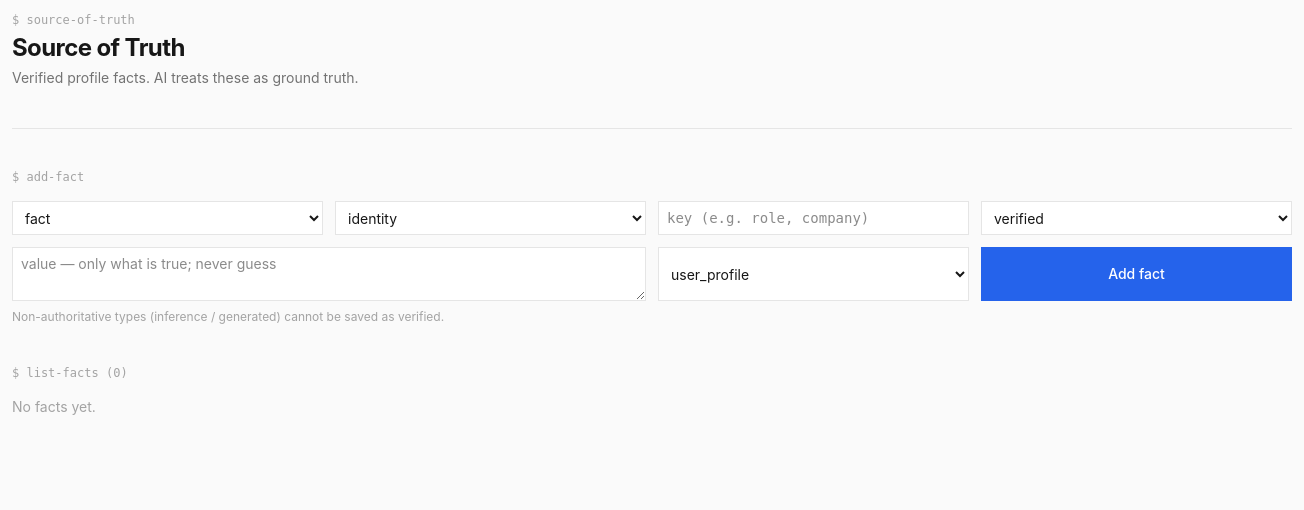
Test: ProfileFactsPage › shows validation errors returned by the API without clearing the form state
Expected: the text "$ add-fact" is shown, [12, 170, 84, 184]
Click the button "Add fact". click: click(1136, 274)
box: [981, 247, 1292, 301]
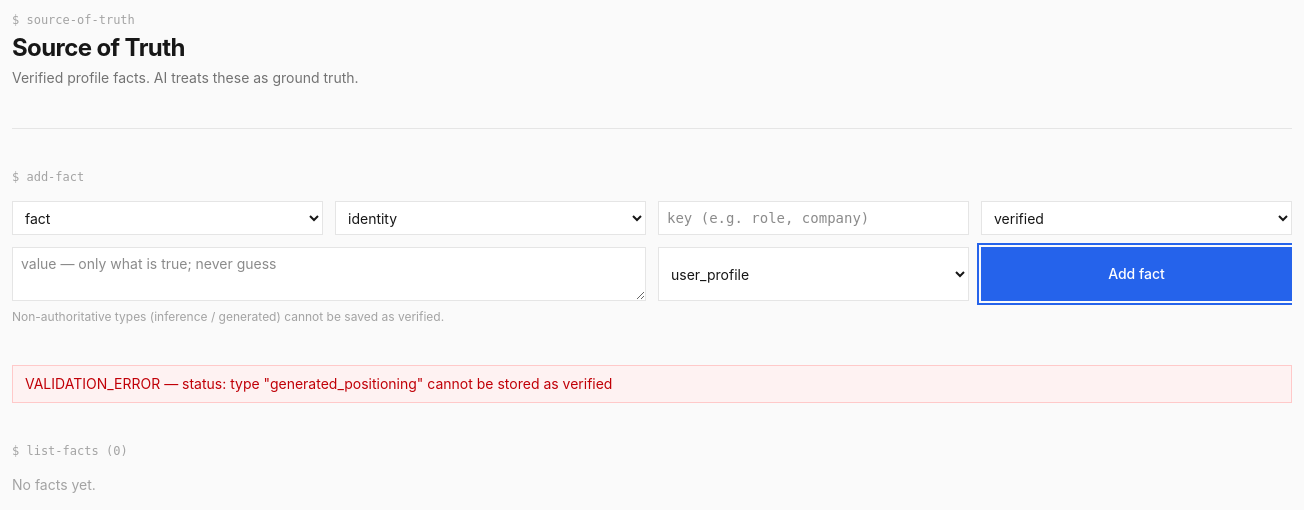
Expected: the message shows "cannot be stored as verified", [25, 375, 612, 392]
